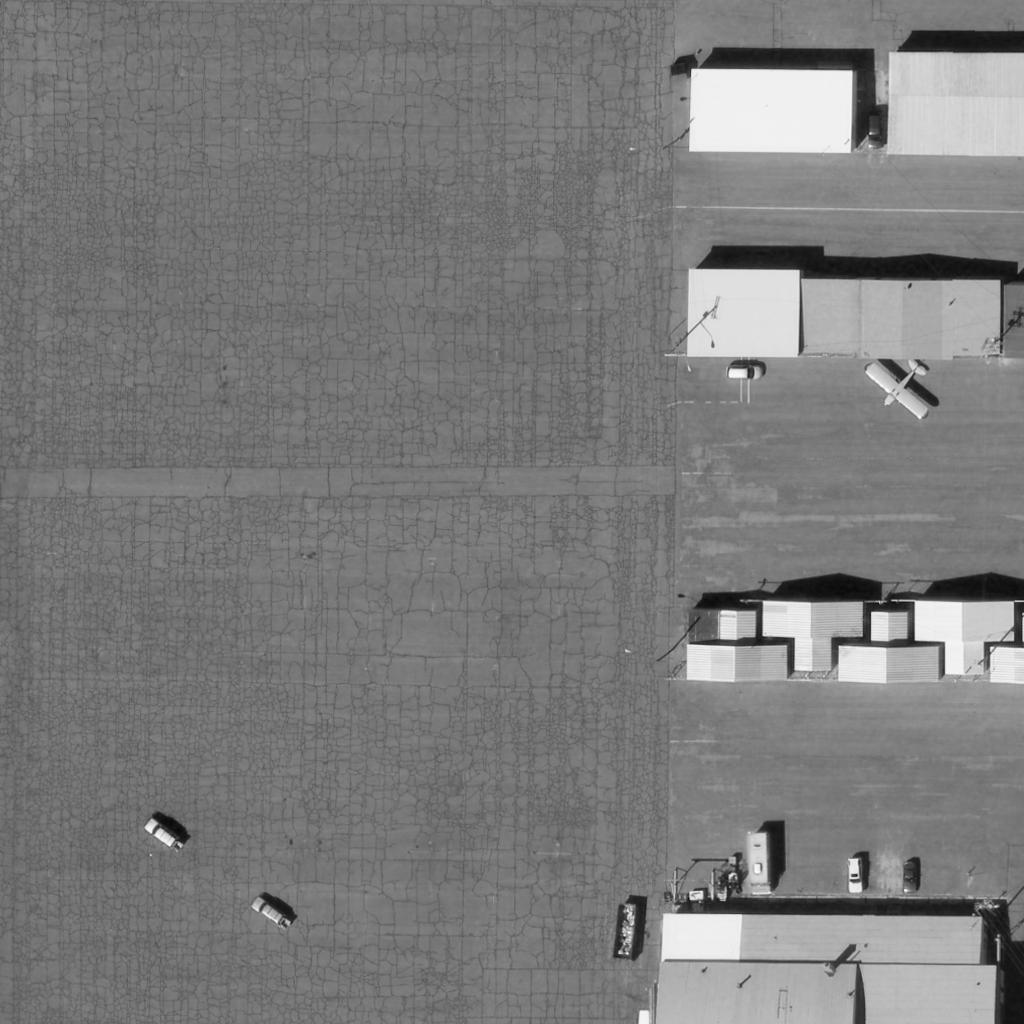vehicle: (748, 832, 772, 894), (247, 895, 289, 927), (143, 817, 181, 849), (866, 112, 886, 150), (847, 859, 867, 893), (725, 365, 765, 381), (903, 863, 917, 893)
